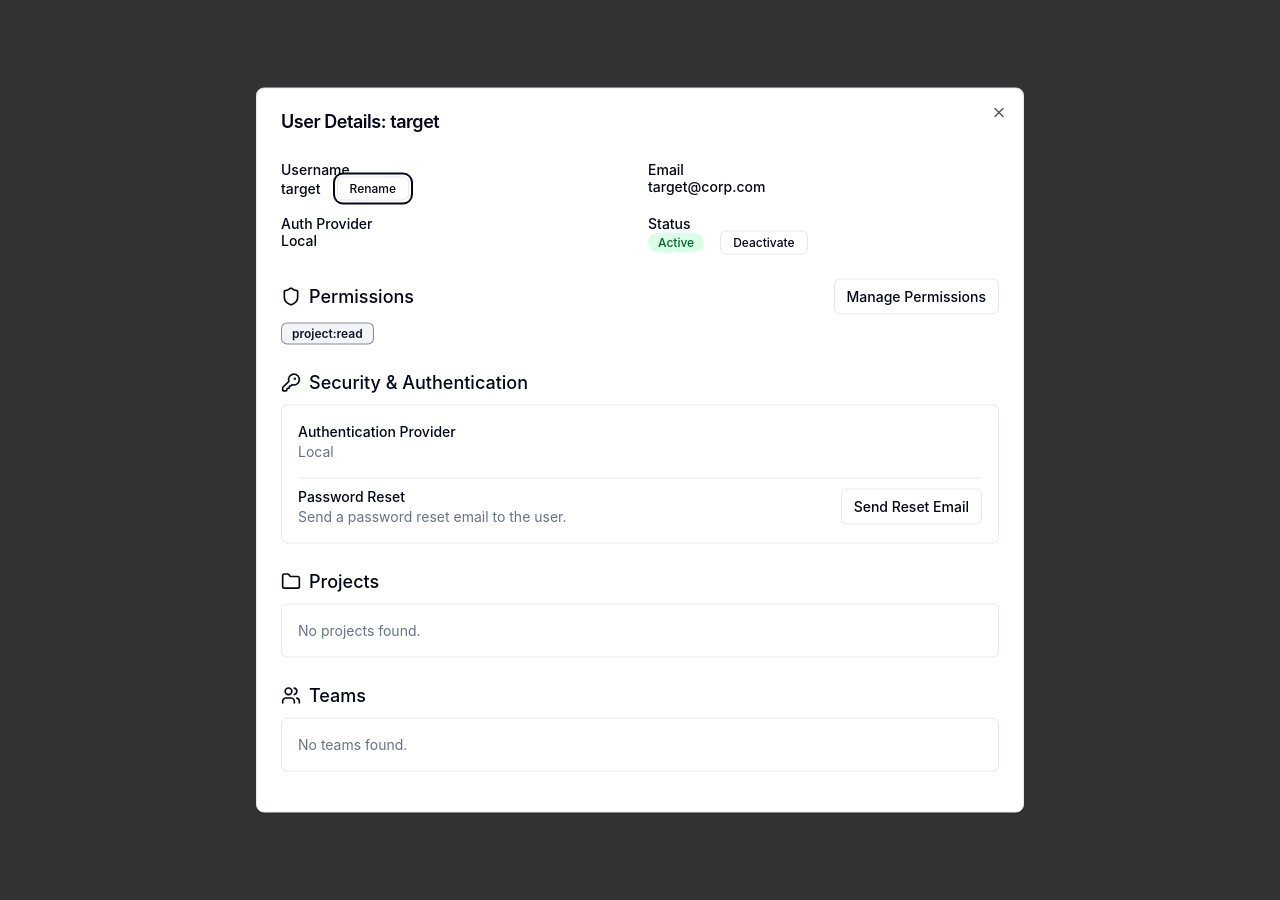
Test: UserDetailsDialog - username › says under the field that the blank name  needs a username and sends nothing, like the profile card
The width and height of the screenshot is (1280, 900).
Click the button "Rename" at (373, 188), box [337,176,409,200]
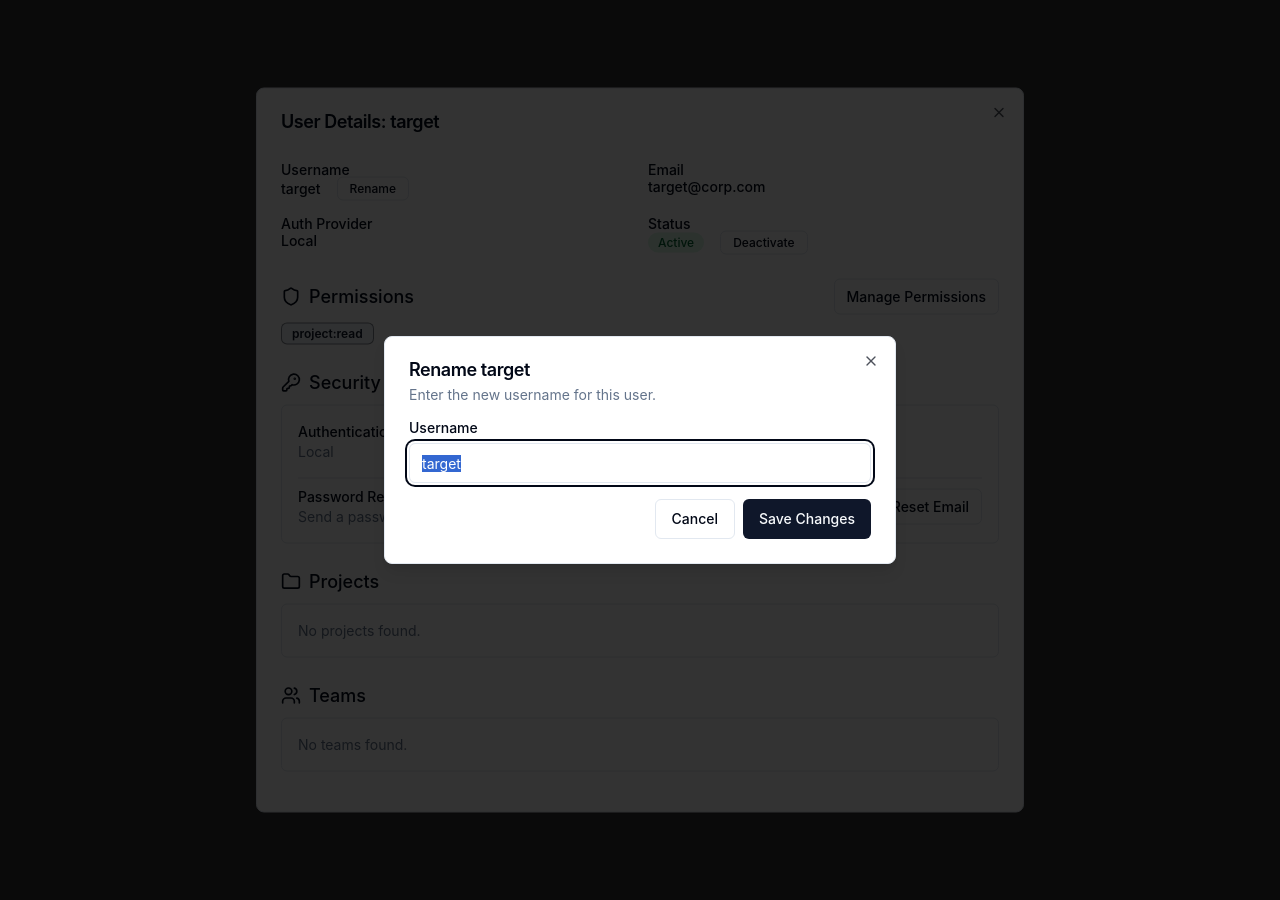
Clear the field labelled "Username" at (640, 463), box [409,443,871,483]
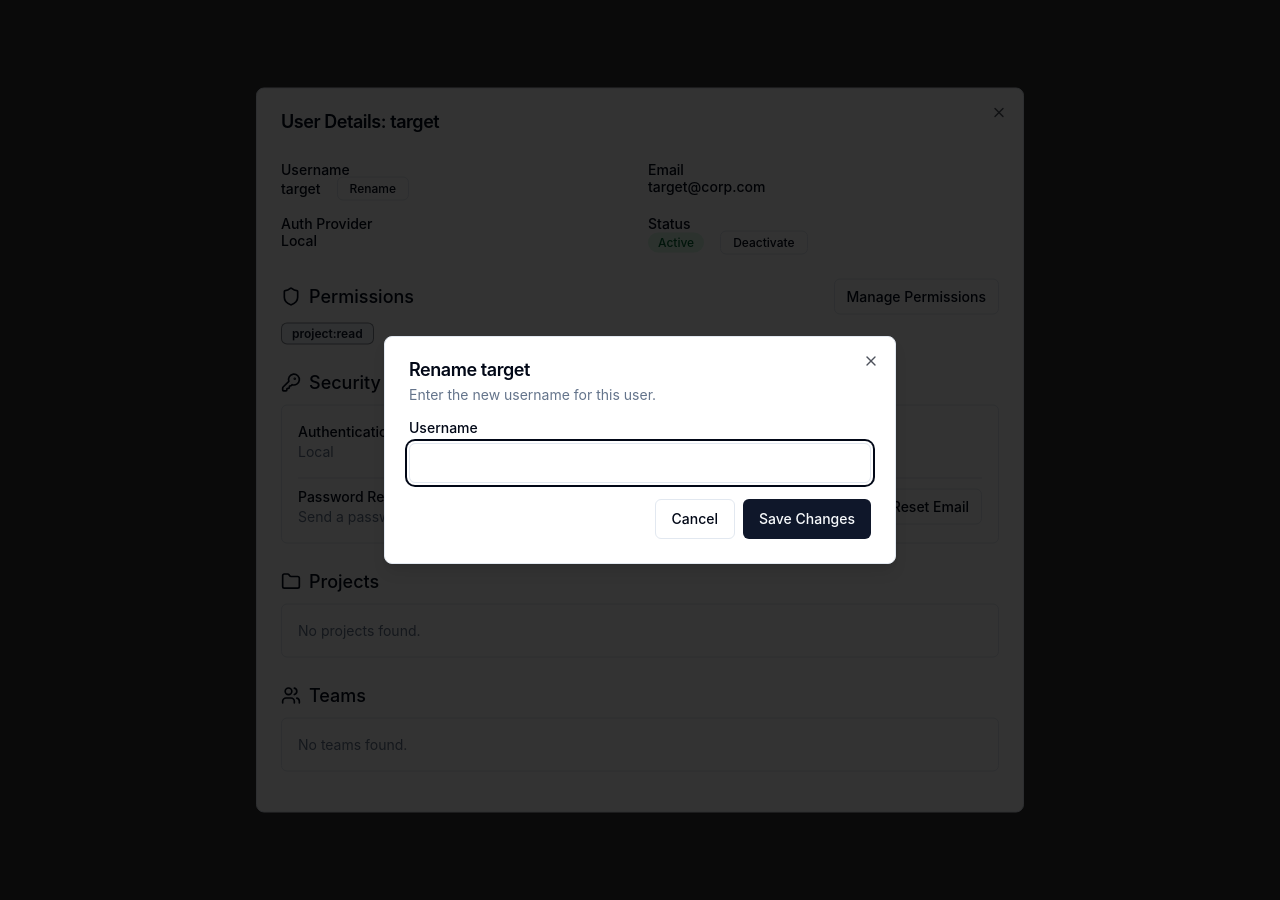
Result: the button "Save Changes" is enabled
Click the button "Save Changes" at (807, 519), box [743,499,871,539]
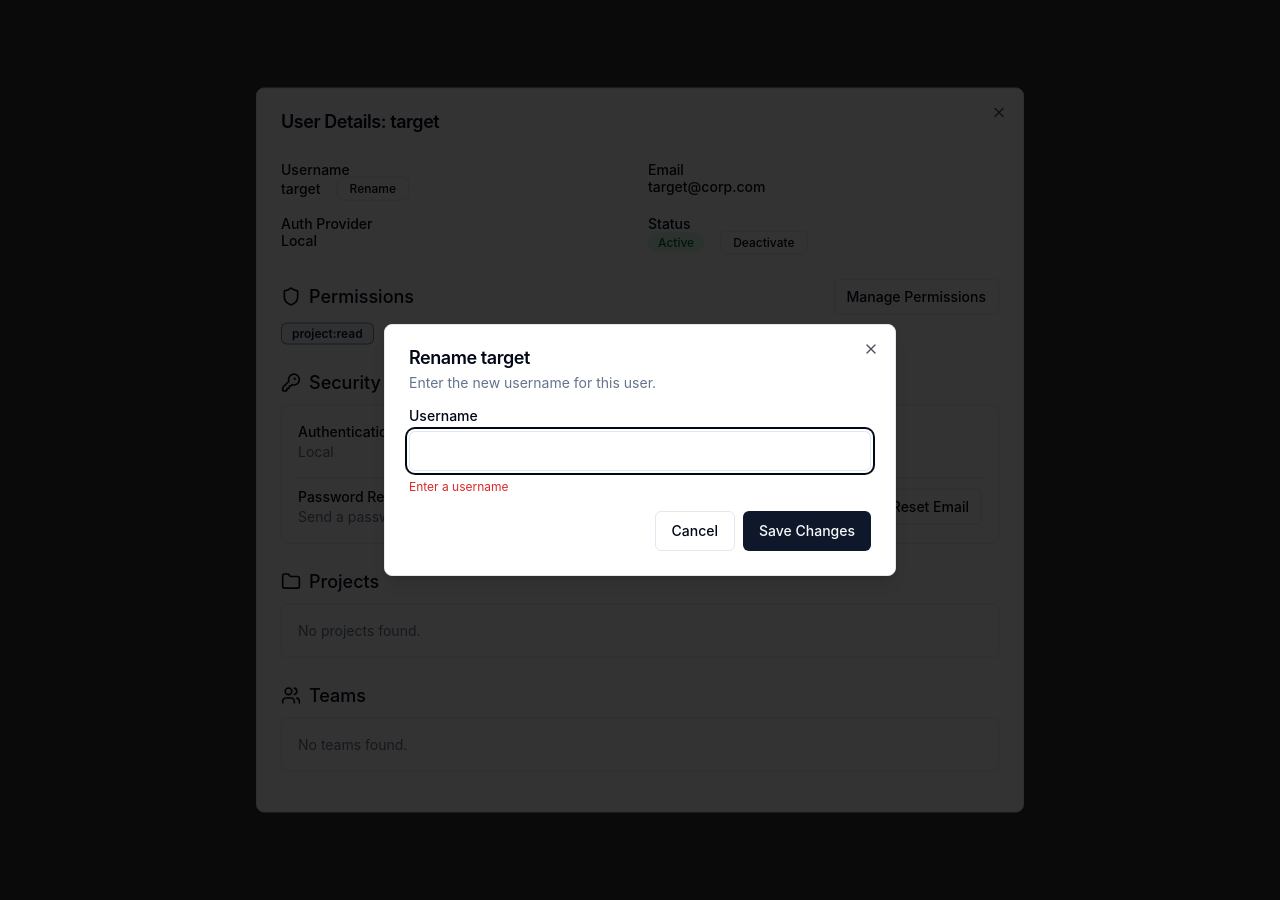
Result: the message reads "Enter a username" at [409,479,509,494]
Type "target2" into the field labelled "Username" at (640, 451), box [409,431,871,471]
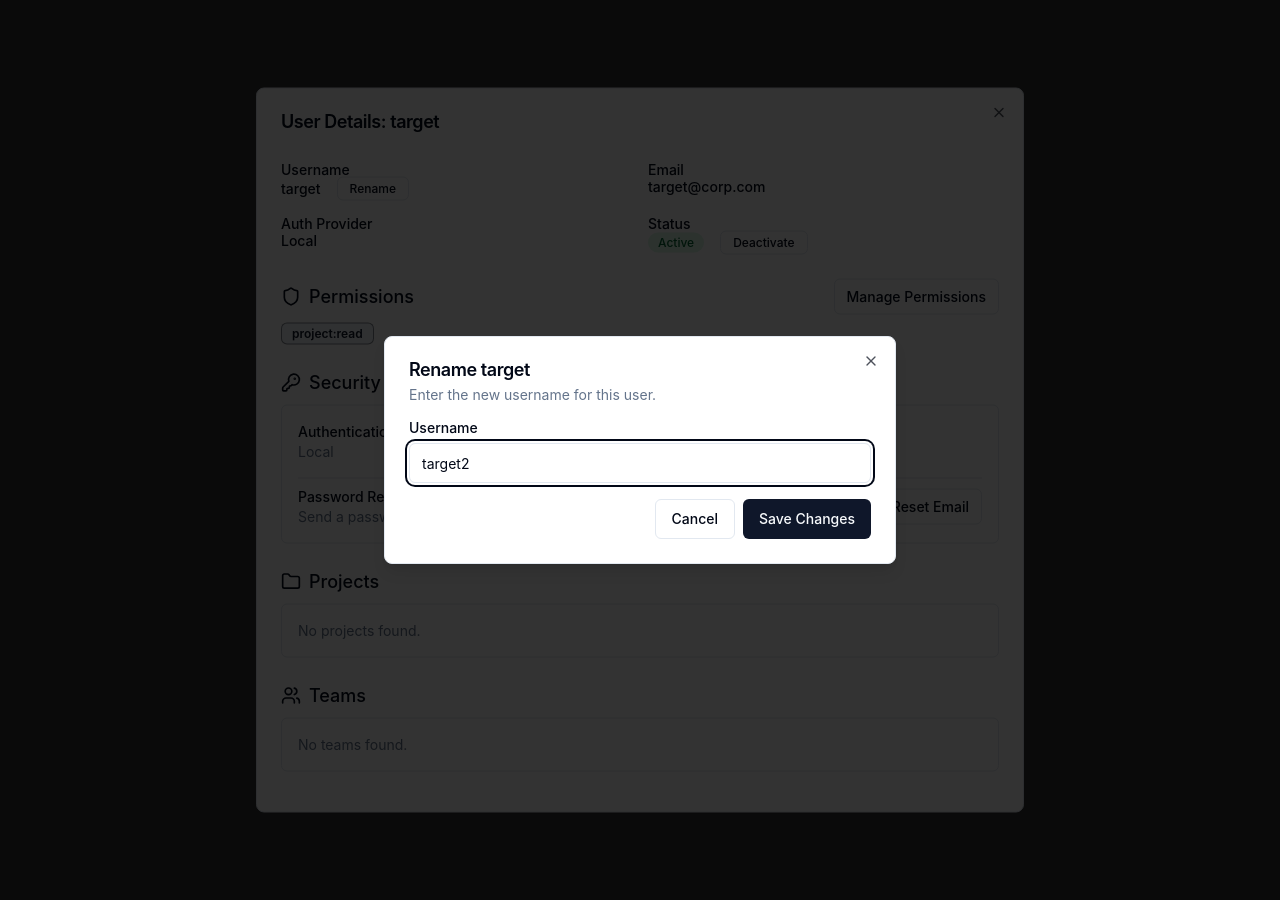
Result: the message "Enter a username" is gone
